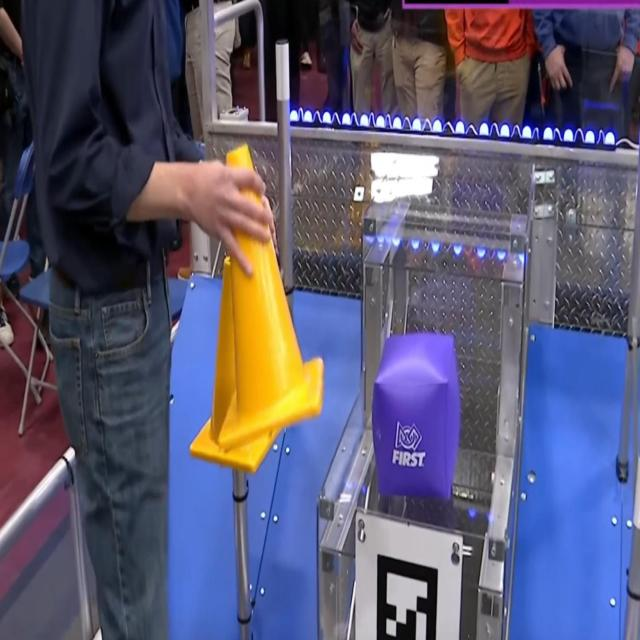frc_cone: (213, 165, 324, 464), (190, 254, 270, 476)
frc_cube: (373, 335, 462, 502)
